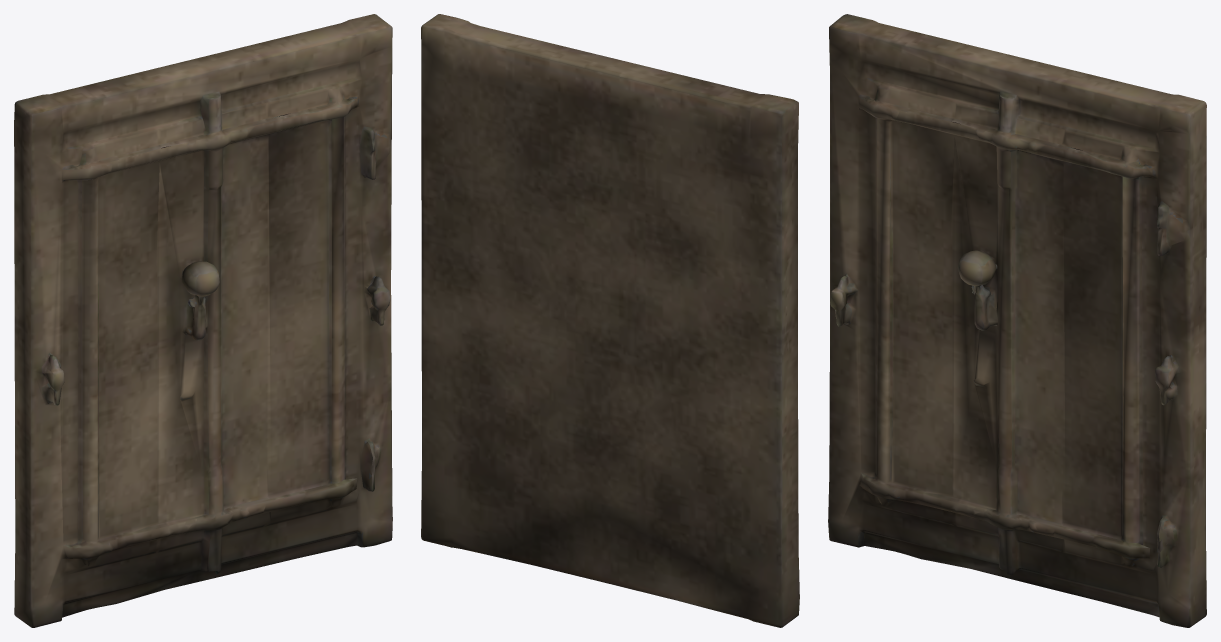
Rendered from weathered-wood-cell-door-v001.glb.
3 renders of one model, left to right at view 1: azimuth 30°, elevation 25°; view 2: azimuth 150°, elevation 25°; view 3: azimuth 330°, elevation 25°, orthographic.
Visible parts, largest first — view 1: weathered-wood-cell-door; view 2: weathered-wood-cell-door; view 3: weathered-wood-cell-door.
Part boxes in pixels (left/top/right/bottom): weathered-wood-cell-door: left=14, top=14, right=392, bottom=627; weathered-wood-cell-door: left=421, top=14, right=799, bottom=627; weathered-wood-cell-door: left=828, top=14, right=1206, bottom=627.
Size of the model in its own units: 1.64 by 2.23 by 0.2916.
1 material, 1 textured.
